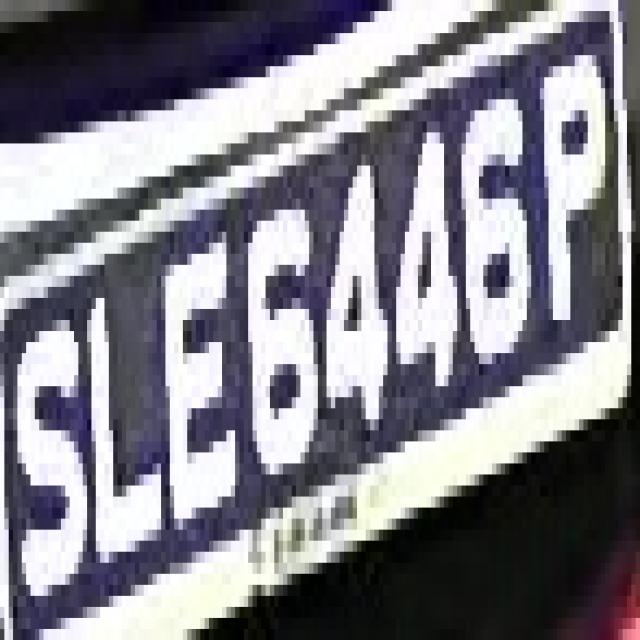4: (388, 78, 474, 430), (314, 110, 396, 474)
6: (235, 165, 318, 508), (457, 88, 540, 386)
E: (157, 177, 235, 540)
L: (83, 265, 170, 596)
P: (535, 11, 614, 386)
S: (4, 276, 87, 596)
